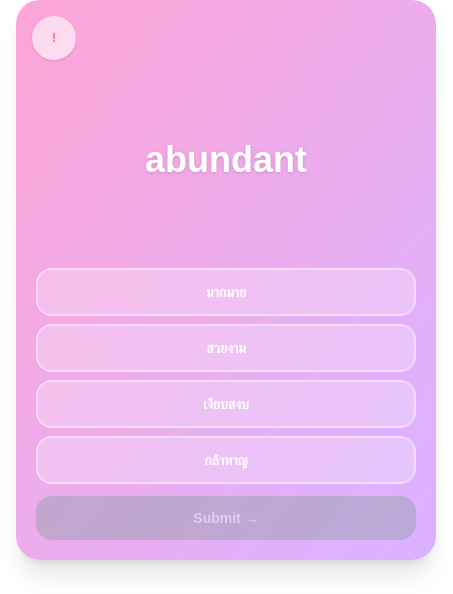
Test: MultipleChoiceCard — after submit › shows wrong badge with correct answer when wrong answer selected
Click the button "สวยงาม" at (226, 348), box 36,324 -> 416,372
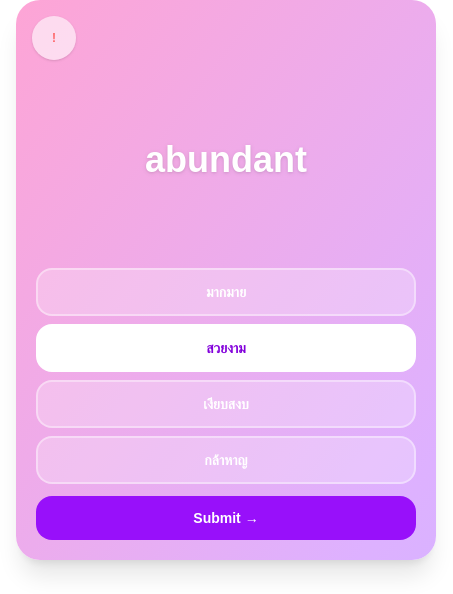
Click the button "Submit →" at (226, 518), box 36,496 -> 416,540
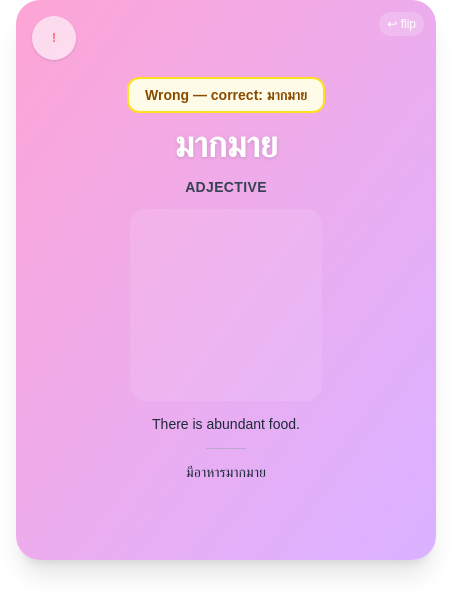
Expected: the text "Wrong — correct: มากมาย" is shown, 127,77 -> 325,113
